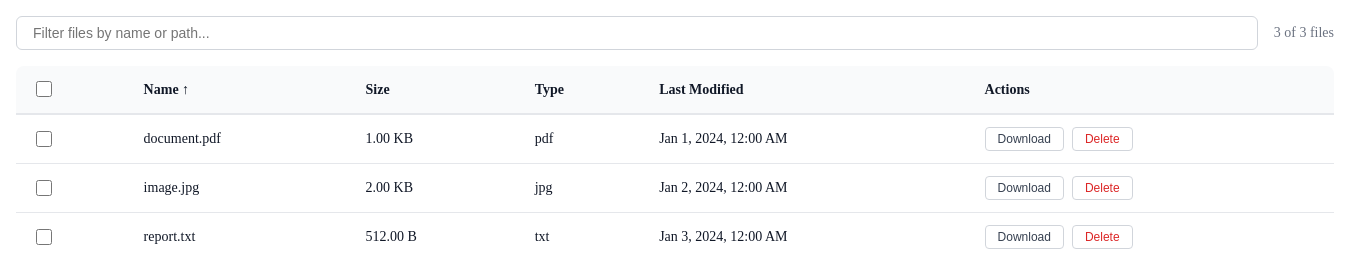
Test case: FileList › filtering › should filter files by name
Type "pdf" into the field with placeholder "Filter files by name or path..." at (637, 33), box [16, 16, 1258, 50]
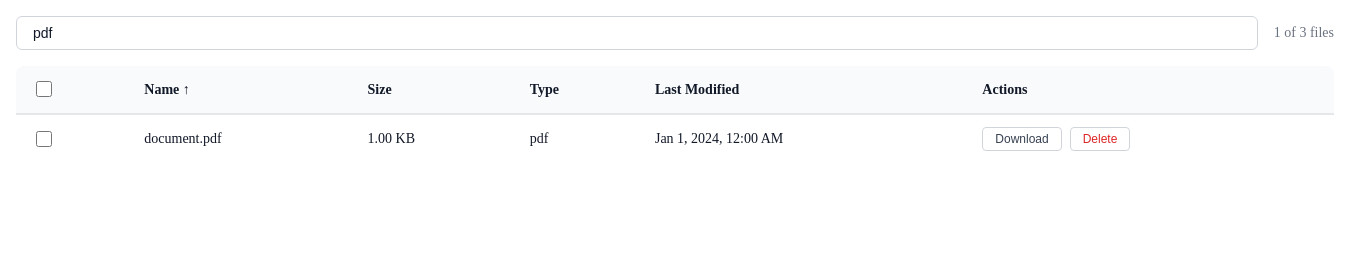
expect the text "document.pdf" is shown: met, box [128, 114, 352, 163]
expect the text "image.jpg" is gone: met
